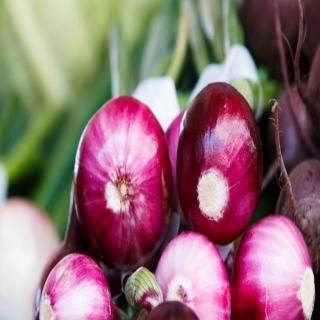Bawang Merah: (74, 95, 175, 271), (177, 82, 264, 246)
